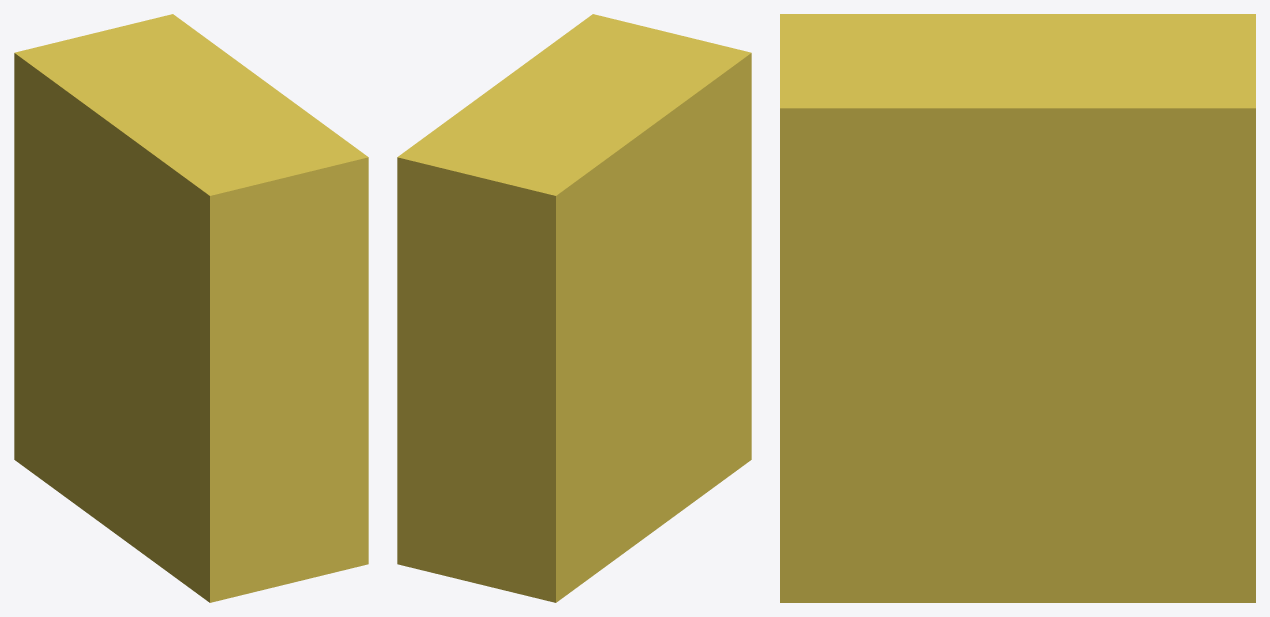
The model's file is LiteralmenteCosa.fbx.
The picture shows the model from 3 angles, left to right: view 1: azimuth 30°, elevation 25°; view 2: azimuth 150°, elevation 25°; view 3: azimuth 270°, elevation 25°; orthographic projection. The views are drawn at different scales.
Parts seen in each view (by area): view 1: Cube.003; view 2: Cube.003; view 3: Cube.003.
Boxes of the visible parts, x1,y1,x2,y2 form: Cube.003: (14,14,368,602); Cube.003: (397,14,751,602); Cube.003: (780,14,1255,602).
Bounding box in the file's own units: 0.5252 × 1.29 × 1.12.
